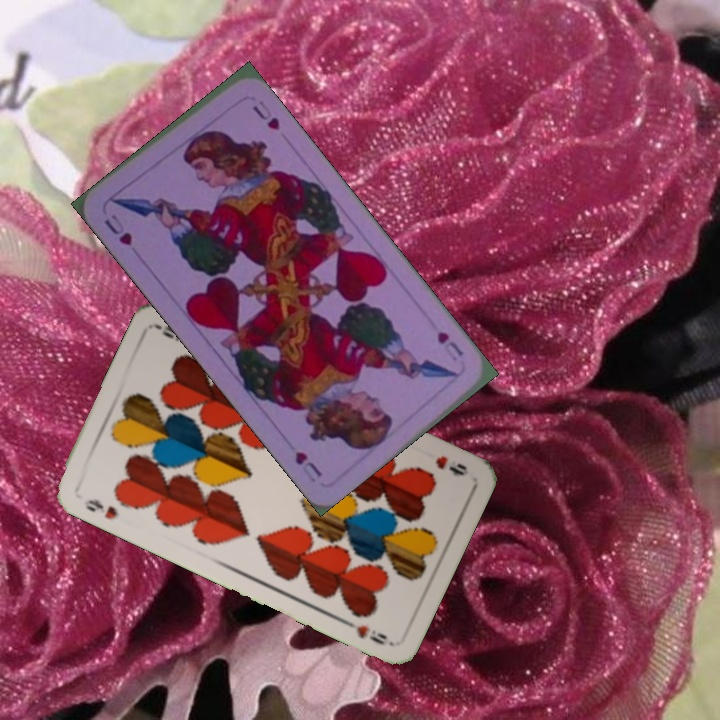H9: (431, 451, 471, 479), (80, 495, 120, 522)
HU: (100, 210, 135, 249), (432, 327, 466, 364)
